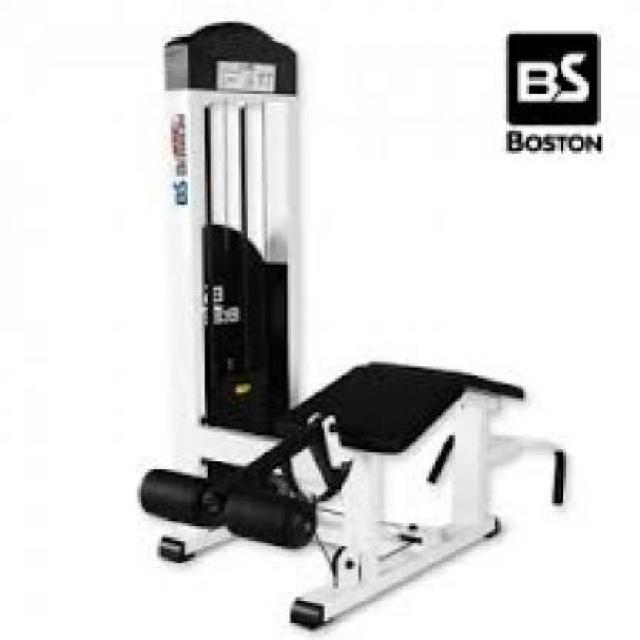reg curl machine: (132, 22, 566, 632)
